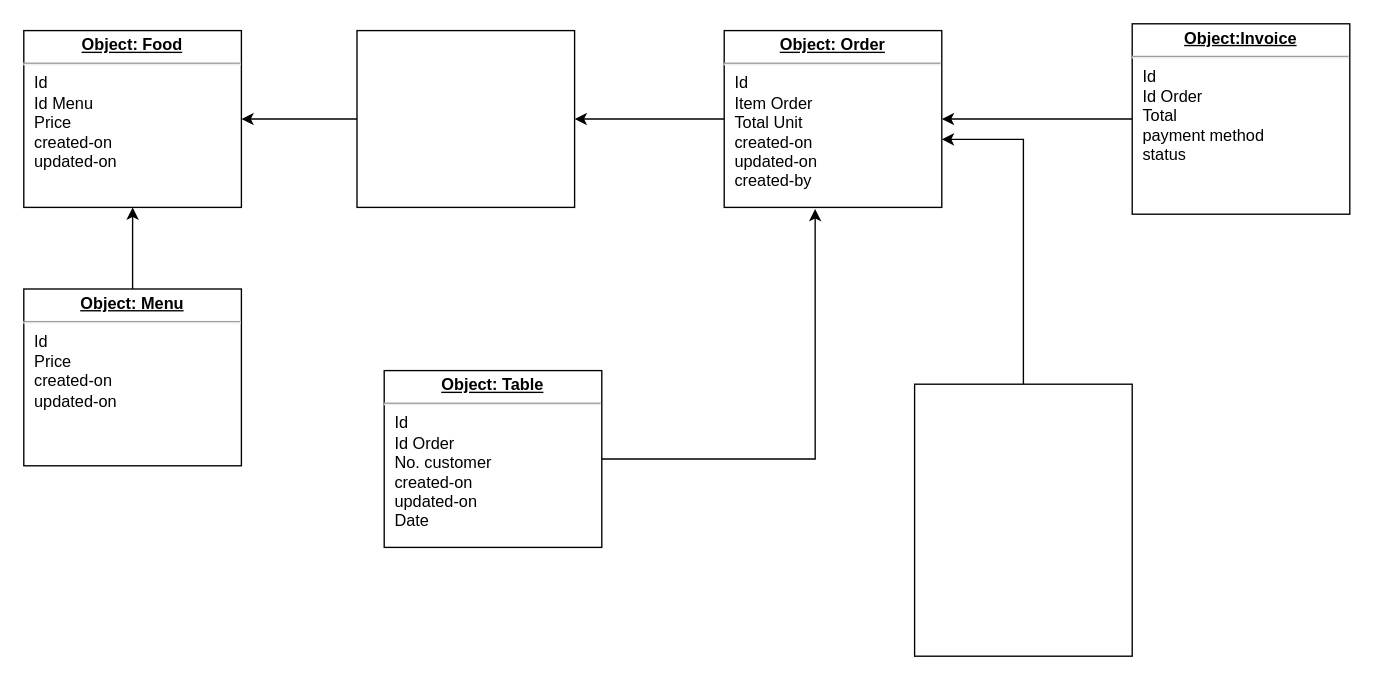
This 1374x680 diagram has some shape labels left out. The centre of each missing label's shape, as x and y in pixels:
Object: Item Order Id Id Menu Unit created-on update-on: the point at 465,118
Object: User Id email password Price created-on updated-on token: the point at 1022,519
